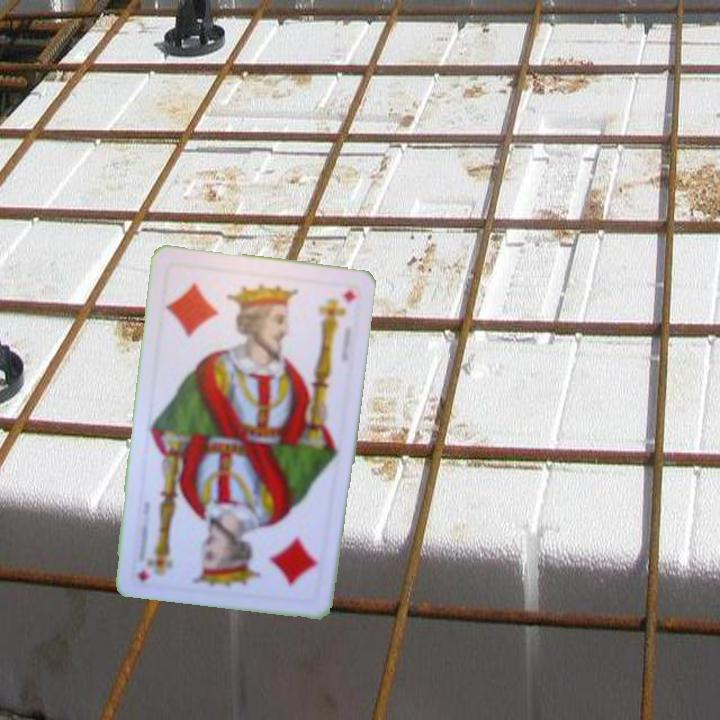d_k.png: (222, 506, 331, 603), (157, 261, 265, 357)
